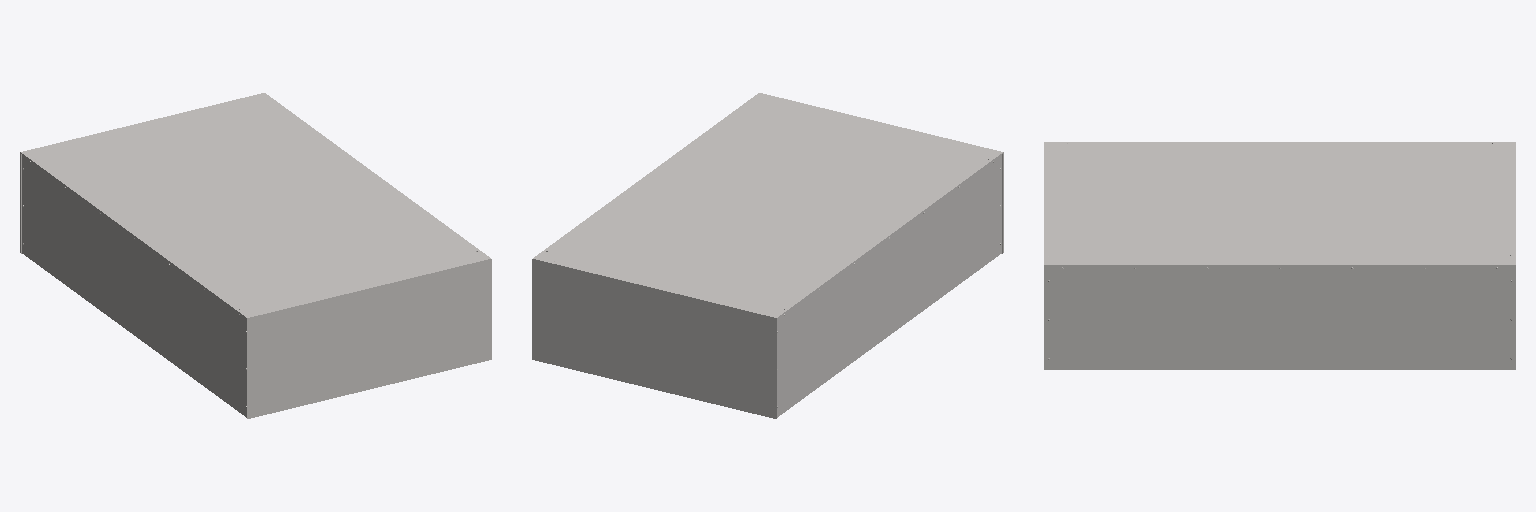
The robot description file, URDF, robot "table":
<?xml version="1.0"?>
<robot name="table">
  <link name="base_link">
    <inertial>
      <mass value="0.25" />
      <origin xyz="0 0 0" />
      <inertia  ixx="0.0002" ixy="0.0"  ixz="0.0"  iyy="0.0002"  iyz="0.0"
      izz="0.0002" />
    </inertial>
    <visual>
      <geometry>
        <mesh filename="../meshes/table_box/table.stl"/>
      </geometry>
      <material name="light_grey">
            <color rgba="0.82 0.81 0.8 1"/>
      </material>
    </visual>
    <collision>
        <origin xyz="0 0 0.2" />
      <geometry>
        <box size="1.0 1.618 0.4"/>
      </geometry>
    </collision>
  </link>
</robot>

--- What the picture shows (computed from the rendered views, not written in the file) ---
3 views of the same robot in one strip: view 1: azimuth 30°, elevation 25°; view 2: azimuth 150°, elevation 25°; view 3: azimuth 270°, elevation 25° (orthographic).
Model table with 1 links and 0 joints (none), rooted at base_link, posed every joint at zero.
Visible links, largest first — view 1: base_link; view 2: base_link; view 3: base_link.
Link boxes in pixels (x1,y1,x2,y2): base_link: (20,93,491,418); base_link: (532,93,1003,418); base_link: (1044,142,1515,369).
Size in the robot's own frame: 1.01 by 1.62 by 0.4011 metres.
Meshes: 1 distinct files referenced, 1 mesh visuals loaded (1 binary STL).